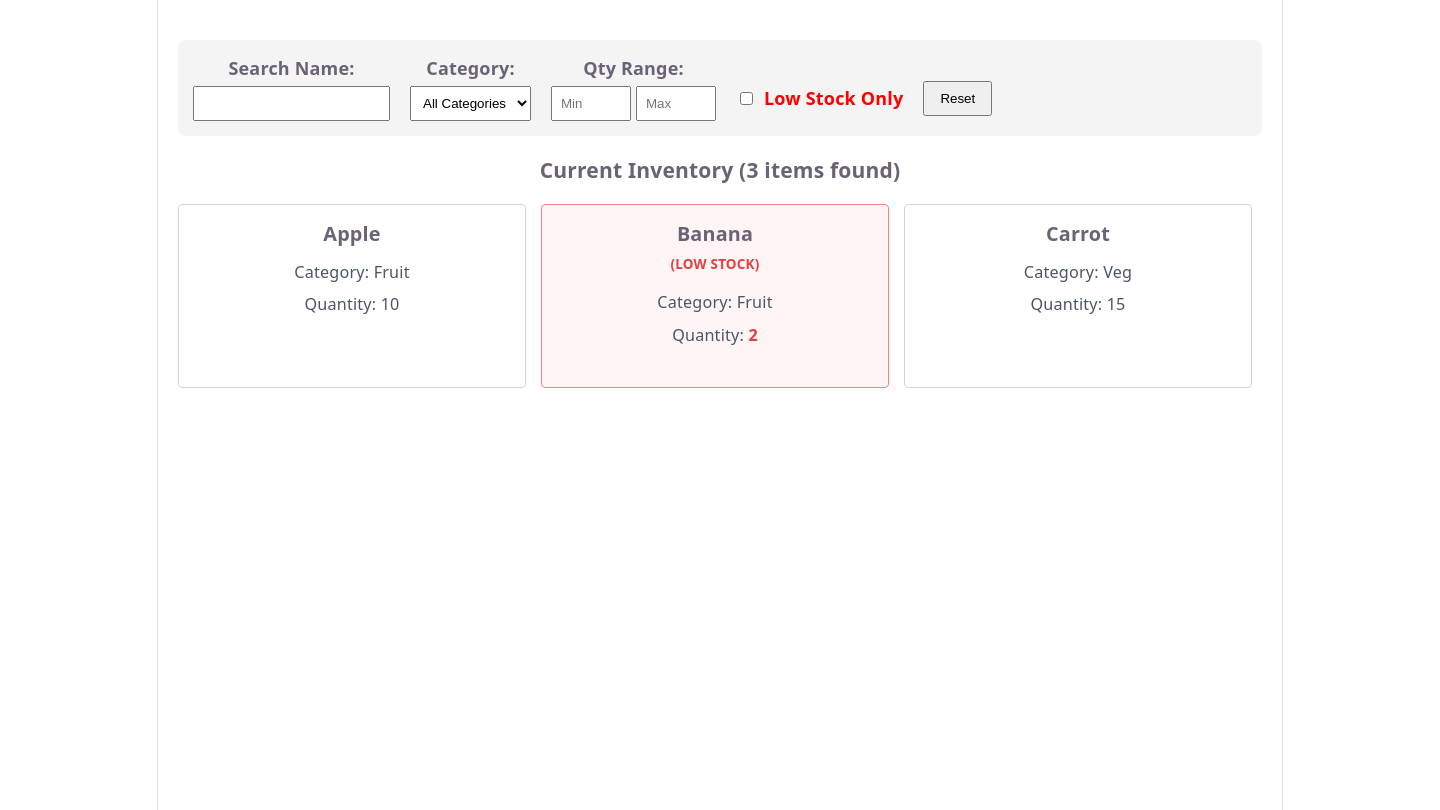
InventoryList Component › filters items by Low Stock Only checkbox
Expected: the text "Apple" is shown, [323,220,381,247]
Step 1. Click the checkbox → (746, 98), box [740,92,753,104]
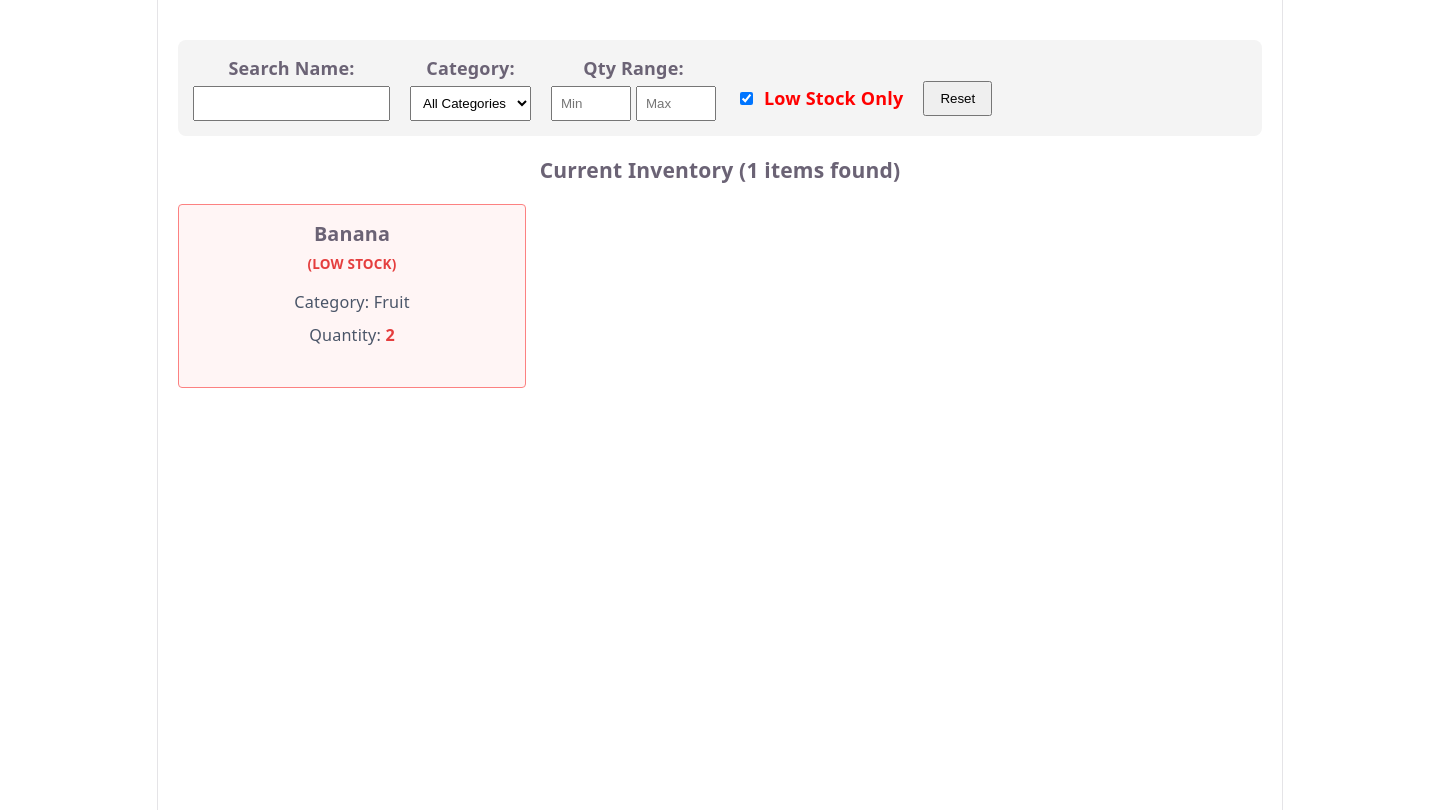
Expected: the text "Banana" is shown, [314,220,390,247]
Now the text "Apple" is gone
